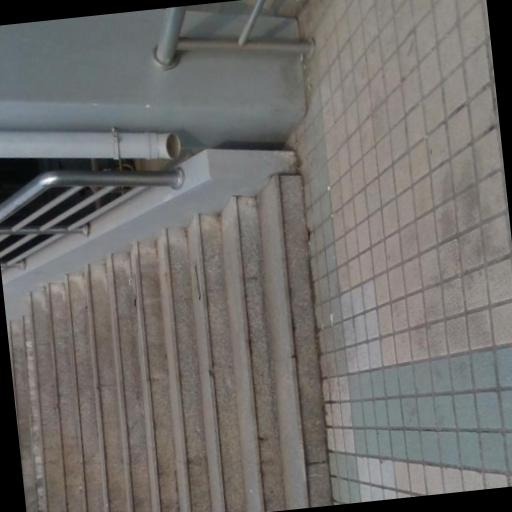stairs: (7, 176, 330, 511)
